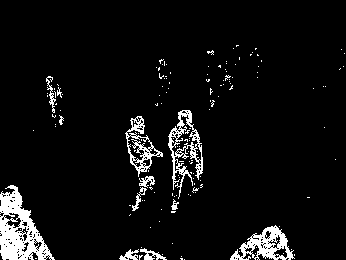person: (1, 181, 58, 260), (168, 106, 205, 214), (126, 115, 161, 215)
